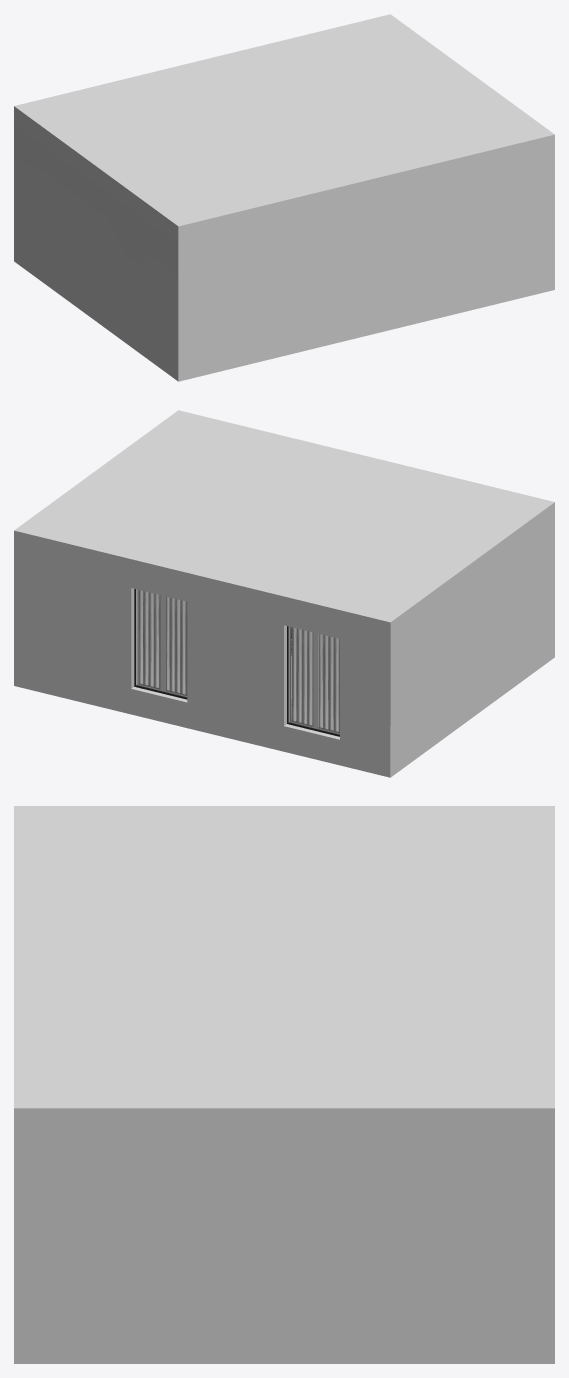
The model's file is bedroom.glb.
3 renders of one model, top to bottom at view 1: azimuth 30°, elevation 25°; view 2: azimuth 150°, elevation 25°; view 3: azimuth 270°, elevation 25°, orthographic. The views are drawn at different scales.
Parts seen in each view (by area): view 1: COL_static, bedroom_static; view 2: COL_static, bedroom_static; view 3: COL_static, bedroom_static.
Boxes of the visible parts, left/top/right/bottom form: COL_static: left=14, top=14, right=554, bottom=381; bedroom_static: left=14, top=124, right=178, bottom=275; COL_static: left=14, top=410, right=554, bottom=777; bedroom_static: left=131, top=520, right=554, bottom=739; COL_static: left=14, top=806, right=554, bottom=1363; bedroom_static: left=14, top=1108, right=554, bottom=1363.
Bounding box in the file's own units: 7.2 × 2.84 × 5.45.
Materials: 52 (19 with a texture image).
